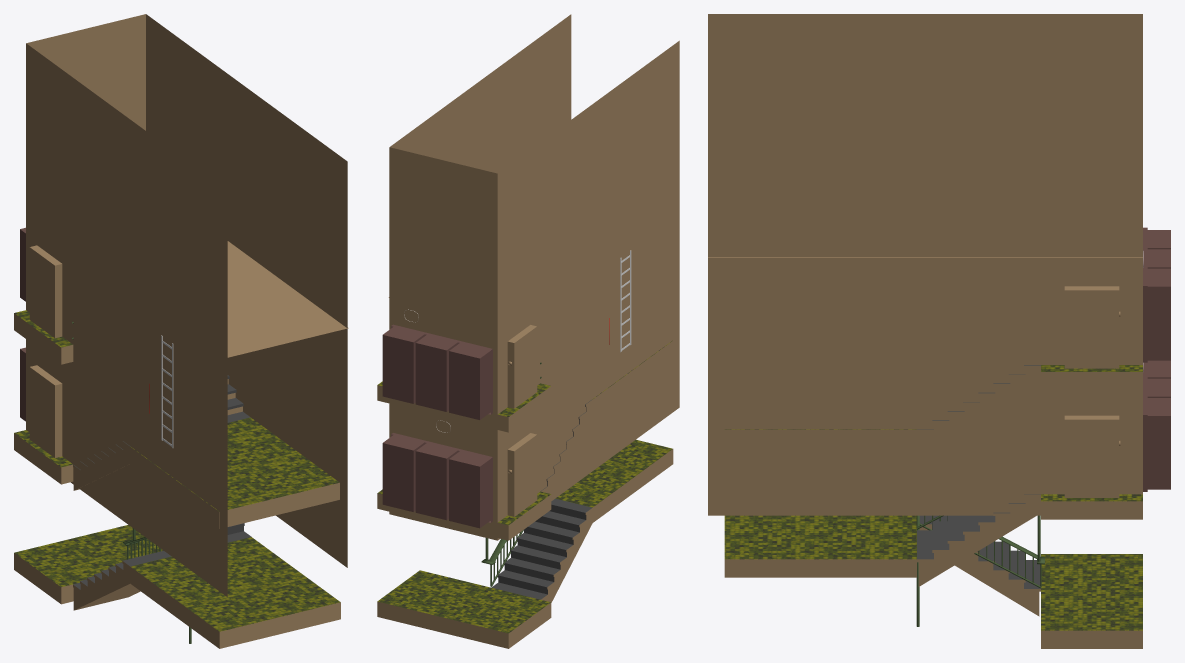
Rendered from Stairway.fbx.
3 renders of one model, left to right at view 1: azimuth 30°, elevation 25°; view 2: azimuth 150°, elevation 25°; view 3: azimuth 270°, elevation 25°, orthographic. The views are drawn at different scales.
Visible parts, largest first — view 1: Cube.086, Cube.024, Cube.059, Cube.075, Plane.005; view 2: Cube.086, Cube.024, Cube.056, Cube.070, Plane.005, Cube.075; view 3: Cube.086, Cube.024, Cube.056, Cube.070, Plane.005.
Part boxes in pixels (bbox=[...]): Cube.086: bbox=[26, 14, 347, 596]; Cube.024: bbox=[14, 310, 340, 648]; Cube.059: bbox=[227, 241, 348, 357]; Cube.075: bbox=[161, 335, 173, 448]; Plane.005: bbox=[72, 321, 191, 643]; Cube.086: bbox=[389, 14, 679, 540]; Cube.024: bbox=[377, 340, 673, 648]; Cube.056: bbox=[382, 324, 492, 419]; Cube.070: bbox=[382, 433, 492, 528]; Plane.005: bbox=[481, 362, 541, 586]; Cube.075: bbox=[620, 250, 631, 352]; Cube.086: bbox=[708, 14, 1142, 515]; Cube.024: bbox=[724, 365, 1142, 648]; Cube.056: bbox=[1143, 227, 1170, 362]; Cube.070: bbox=[1143, 360, 1170, 491]; Plane.005: bbox=[916, 515, 1044, 626].
Bounding box in the file's own units: 10.68 × 37.76 × 27.26.
